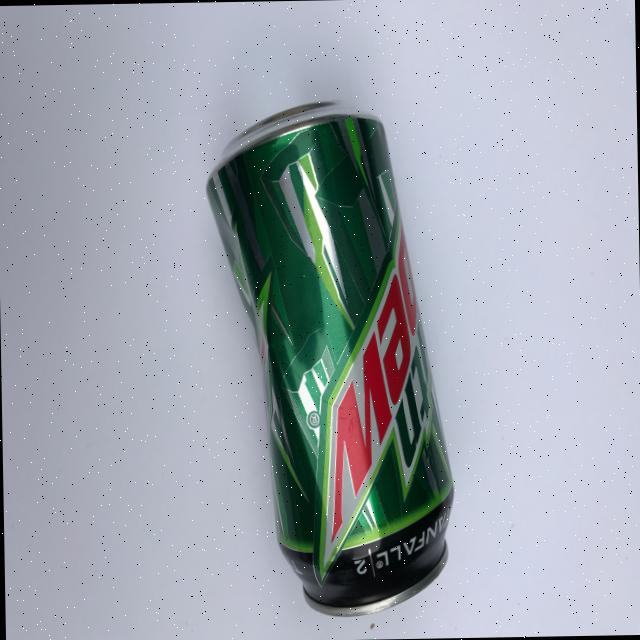metal: (203, 96, 456, 618)
